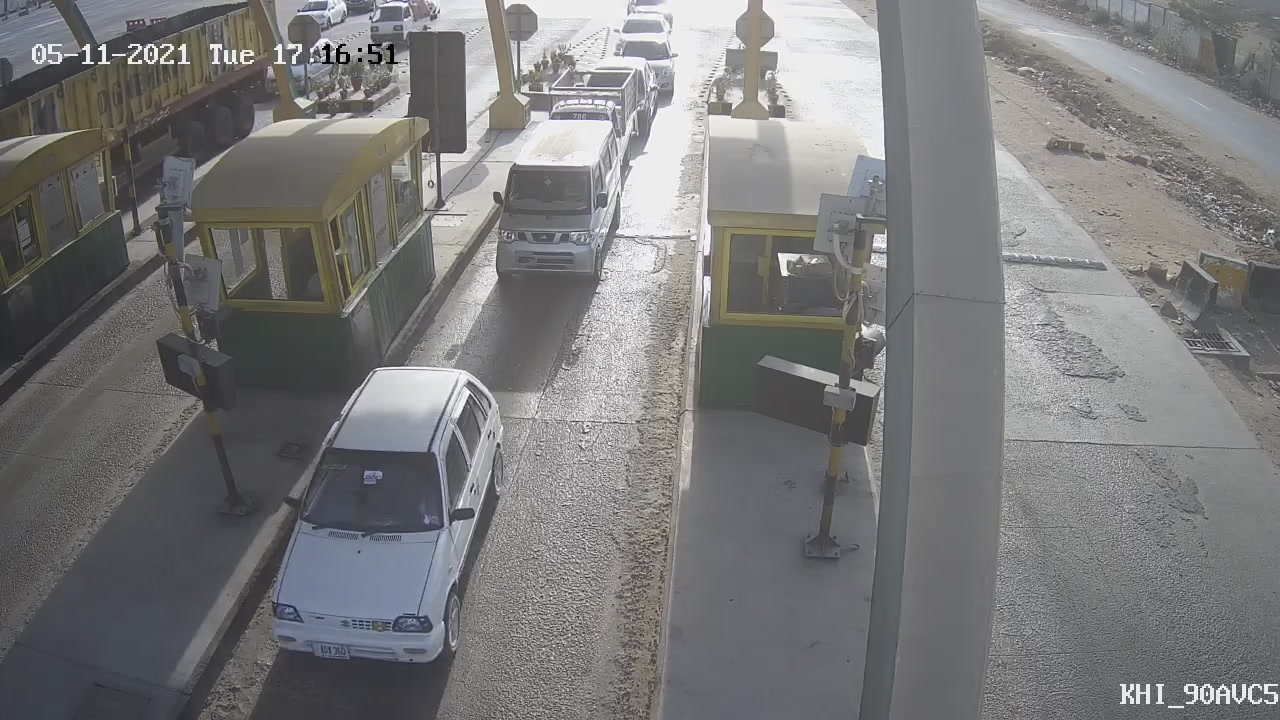F1: (472, 105, 640, 307)
